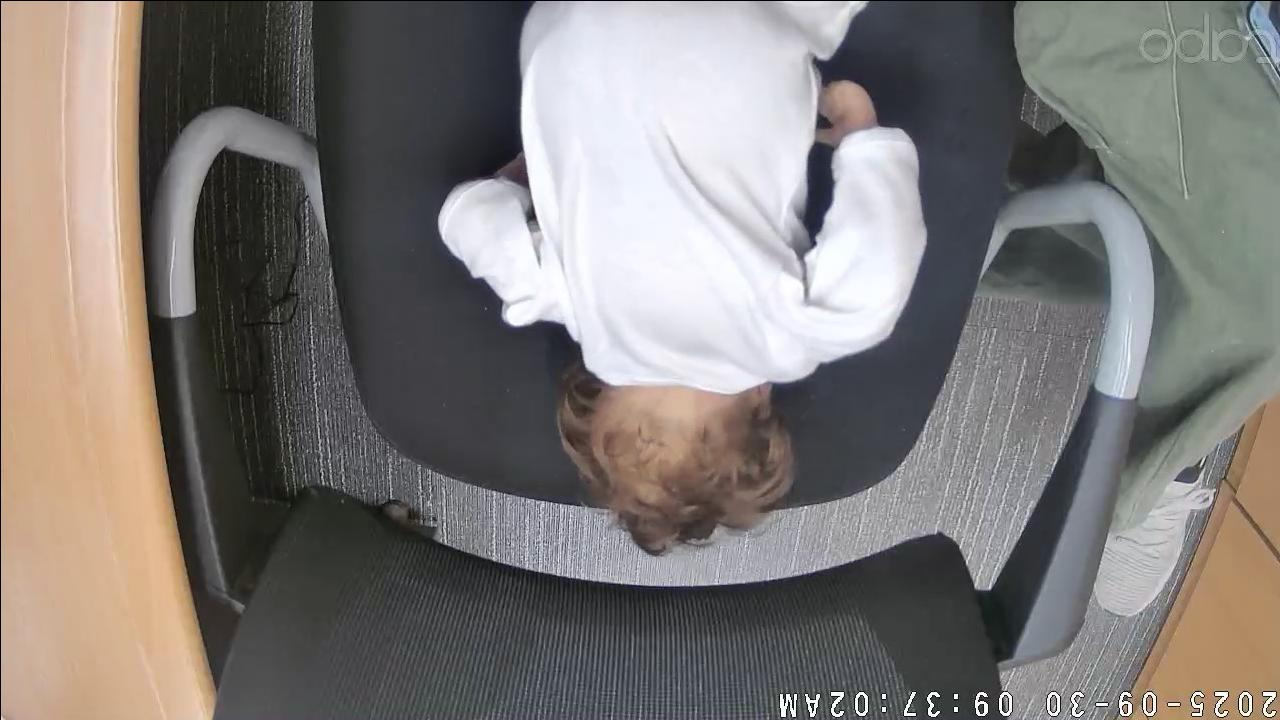hand: (813, 75, 870, 148)
